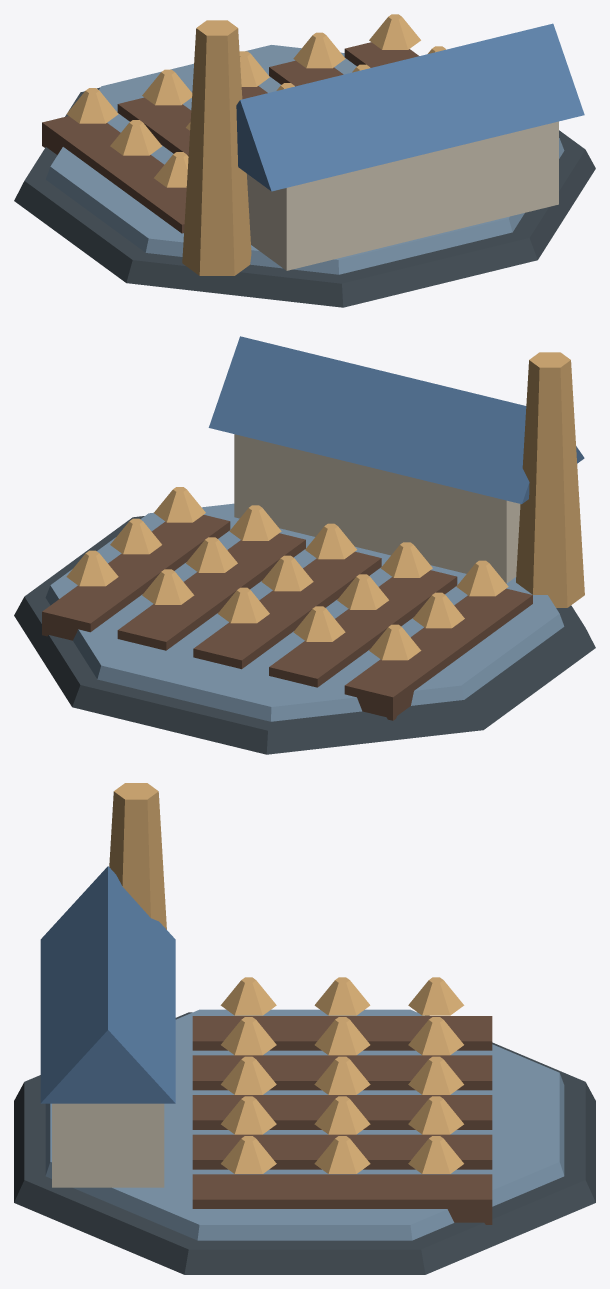
Rendered from Farm_3.fbx.
The picture shows the model from 3 angles, top to bottom: view 1: azimuth 30°, elevation 25°; view 2: azimuth 150°, elevation 25°; view 3: azimuth 270°, elevation 25°; orthographic projection. The views are drawn at different scales.
Parts seen in each view (by area): view 1: Farm_3; view 2: Farm_3; view 3: Farm_3.
Boxes of the visible parts, box(x1,y1,x2,y2) form: Farm_3: box(14, 14, 595, 307); Farm_3: box(14, 336, 595, 754); Farm_3: box(14, 783, 595, 1274).
Size of the model in its own units: 2.7 by 1.4 by 2.7.
